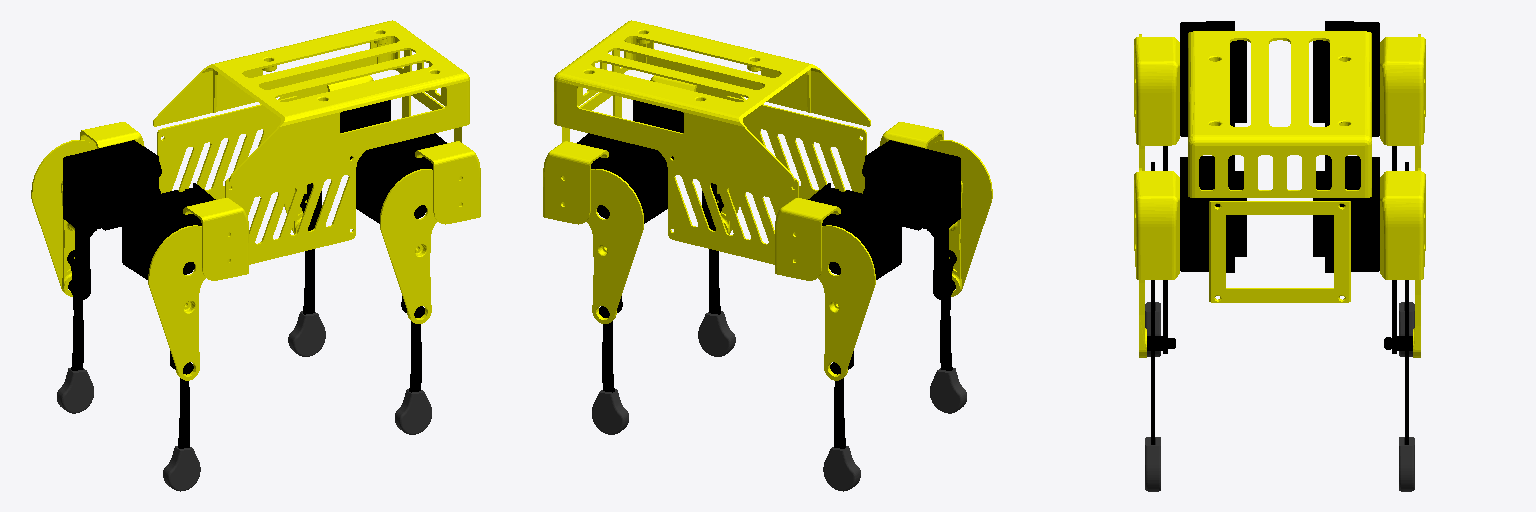
--- What the picture shows (computed from the rendered views, not written in the file) ---
3 views of the same robot in one strip: view 1: azimuth 30°, elevation 25°; view 2: azimuth 150°, elevation 25°; view 3: azimuth 270°, elevation 25° (orthographic).
Robot: mini_pupper_description — 27 links, 26 joints (12 revolute, 14 fixed); root link base_link; default pose: all joints at 0.
Links seen in each view (by area): view 1: yellow_plate_on_base_link, lb1, yellow_plate_on_rb2, yellow_plate_on_rf2, rb1, yellow_plate_on_lb2, yellow_plate_on_rf1, yellow_plate_on_rb1, rf1, lffoot, rbfoot, lbfoot (+9 smaller); view 2: yellow_plate_on_base_link, rb1, yellow_plate_on_lb2, yellow_plate_on_lf2, lb1, yellow_plate_on_rb2, yellow_plate_on_lf1, yellow_plate_on_lb1, lf1, rffoot, lbfoot, lffoot (+9 smaller); view 3: yellow_plate_on_base_link, yellow_plate_on_lb1, yellow_plate_on_rb1, yellow_plate_on_lf1, yellow_plate_on_rf1, lf1, rf1, lb1, rb1, lffoot, rffoot, lf2 (+5 smaller).
Link boxes in pixels (left/top/right/bottom): yellow_plate_on_base_link: left=153, top=20, right=469, bottom=264; lb1: left=63, top=140, right=161, bottom=236; yellow_plate_on_rb2: left=148, top=225, right=205, bottom=380; yellow_plate_on_rf2: left=380, top=169, right=437, bottom=323; rb1: left=122, top=183, right=215, bottom=279; yellow_plate_on_lb2: left=31, top=140, right=96, bottom=296; yellow_plate_on_rf1: left=415, top=141, right=480, bottom=224; yellow_plate_on_rb1: left=183, top=198, right=248, bottom=280; rf1: left=356, top=133, right=446, bottom=223; lffoot: left=288, top=311, right=325, bottom=356; rbfoot: left=163, top=446, right=200, bottom=491; lbfoot: left=57, top=368, right=93, bottom=413; yellow_plate_on_base_link: left=554, top=20, right=870, bottom=264; rb1: left=862, top=140, right=960, bottom=236; yellow_plate_on_lb2: left=818, top=225, right=875, bottom=380; yellow_plate_on_lf2: left=586, top=169, right=643, bottom=323; lb1: left=808, top=183, right=901, bottom=279; yellow_plate_on_rb2: left=928, top=140, right=992, bottom=296; yellow_plate_on_lf1: left=543, top=141, right=608, bottom=224; yellow_plate_on_lb1: left=775, top=198, right=840, bottom=280; lf1: left=577, top=133, right=667, bottom=223; rffoot: left=698, top=311, right=735, bottom=356; lbfoot: left=823, top=446, right=860, bottom=491; lffoot: left=592, top=389, right=628, bottom=434; yellow_plate_on_base_link: left=1188, top=31, right=1371, bottom=302; yellow_plate_on_lb1: left=1380, top=37, right=1425, bottom=145; yellow_plate_on_rb1: left=1134, top=37, right=1179, bottom=145; yellow_plate_on_lf1: left=1380, top=171, right=1425, bottom=279; yellow_plate_on_rf1: left=1134, top=171, right=1179, bottom=279; lf1: left=1313, top=155, right=1379, bottom=272; rf1: left=1180, top=155, right=1246, bottom=272; lb1: left=1313, top=21, right=1379, bottom=136; rb1: left=1180, top=21, right=1246, bottom=136; lffoot: left=1399, top=437, right=1414, bottom=491; rffoot: left=1145, top=437, right=1160, bottom=491; lf2: left=1384, top=280, right=1412, bottom=353.
Bounding box of the posed robot: 0.1787 × 0.1104 × 0.1643 m (x, y, z).
Meshes: 26 distinct files referenced, 25 mesh visuals loaded (25 binary STL); not drawn: 1 (reference not matched to a file when rendering).

robot.urdf — mini_pupper_description:
<?xml version="1.0" encoding="utf-8"?>
<!-- This URDF was automatically created by SolidWorks to URDF Exporter! Originally created by Stephen Brawner ([email redacted]) 
     Commit Version: 1.6.0-4-g7f85cfe  Build Version: 1.6.7995.38578
     For more information, please see http://wiki.ros.org/sw_urdf_exporter -->
<robot
  name="mini_pupper_description">
  <link
    name="base_link">
    <inertial>
      <origin
        xyz="0.00844951979878915 0.0001728047792493 0.00869729029701202"
        rpy="0 0 0" />
      <mass
        value="0.134691319118437" />
      <inertia
        ixx="3.40109121256321E-05"
        ixy="-6.78500268507971E-09"
        ixz="-1.81339539021684E-08"
        iyy="0.000147385581272769"
        iyz="-4.47734876658619E-09"
        izz="0.00016846348518794" />
    </inertial>
    <visual>
      <origin
        xyz="0 0 0"
        rpy="0 0 0" />
      <geometry>
        <mesh
          filename="package://mini_pupper_description/meshes/base_link.STL" />
      </geometry>
      <material
        name="">
        <color
          rgba="0 0 0 1" />
      </material>
    </visual>
    <collision>
      <origin
        xyz="0 0 0"
        rpy="0 0 0" />
      <geometry>
        <mesh
          filename="package://mini_pupper_description/meshes/base_link.STL" />
      </geometry>
    </collision>
  </link>
  <link
    name="lf1">
    <inertial>
      <origin
        xyz="0.00526736156972807 0.00236436968105114 0.00650122216444412"
        rpy="0 0 0" />
      <mass
        value="0.0196447444837726" />
      <inertia
        ixx="1.70191348786722E-06"
        ixy="-1.61450827134213E-08"
        ixz="1.86841463825918E-09"
        iyy="2.93899635039357E-06"
        iyz="1.13175026993529E-10"
        izz="2.93583383434522E-06" />
    </inertial>
    <visual>
      <origin
        xyz="0 0 0"
        rpy="0 0 0" />
      <geometry>
        <mesh
          filename="package://mini_pupper_description/meshes/lf1.STL" />
      </geometry>
      <material
        name="">
        <color
          rgba="0 0 0 1" />
      </material>
    </visual>
    <collision>
      <origin
        xyz="0 0 0"
        rpy="0 0 0" />
      <geometry>
        <mesh
          filename="package://mini_pupper_description/meshes/lf1.STL" />
      </geometry>
    </collision>
  </link>
  <joint
    name="base_lf1"
    type="revolute">
    <origin
      xyz="0.053366 0.0235 0"
      rpy="0 0 0" />
    <parent
      link="base_link" />
    <child
      link="lf1" />
    <axis
      xyz="1 0 0" />
    <limit
      lower="-3.14"
      upper="3.14"
      effort="1.5"
      velocity="1" />
  </joint>
  <link
    name="lf2">
    <inertial>
      <origin
        xyz="2.62781338356E-10 0.000129396570295121 -0.021524135719757"
        rpy="0 0 0" />
      <mass
        value="0.00254044741625709" />
      <inertia
        ixx="4.86984531425551E-07"
        ixy="3.95771316406597E-14"
        ixz="1.61669454230127E-14"
        iyy="4.95051213623408E-07"
        iyz="1.56619273587931E-10"
        izz="1.35590088469061E-08" />
    </inertial>
    <visual>
      <origin
        xyz="0 0 0"
        rpy="0 0 0" />
      <geometry>
        <mesh
          filename="package://mini_pupper_description/meshes/lf2.STL" />
      </geometry>
      <material
        name="">
        <color
          rgba="0 0 0 1" />
      </material>
    </visual>
    <collision>
      <origin
        xyz="0 0 0"
        rpy="0 0 0" />
      <geometry>
        <mesh
          filename="package://mini_pupper_description/meshes/lf2.STL" />
      </geometry>
    </collision>
  </link>
  <joint
    name="lf1_lf2"
    type="revolute">
    <origin
      xyz="0 0.0197 0"
      rpy="0 0 0" />
    <parent
      link="lf1" />
    <child
      link="lf2" />
    <axis
      xyz="0 1 0" />
    <limit
      lower="-3.14"
      upper="3.14"
      effort="1.5"
      velocity="1" />
  </joint>
  <link
    name="lf3">
    <inertial>
      <origin
        xyz="-0.000201064324813649 -6.51562137576889E-15 -0.0222388225397051"
        rpy="0 0 0" />
      <mass
        value="0.00116819880893665" />
      <inertia
        ixx="6.33284725556024E-07"
        ixy="-3.27757704155792E-24"
        ixz="-1.45034791129582E-09"
        iyy="6.36627597721464E-07"
        iyz="-1.58221004934781E-21"
        izz="3.78094678449664E-09" />
    </inertial>
    <visual>
      <origin
        xyz="0 0 0"
        rpy="0 0 0" />
      <geometry>
        <mesh
          filename="package://mini_pupper_description/meshes/lf3.STL" />
      </geometry>
      <material
        name="">
        <color
          rgba="0 0 0 1" />
      </material>
    </visual>
    <collision>
      <origin
        xyz="0 0 0"
        rpy="0 0 0" />
      <geometry>
        <mesh
          filename="package://mini_pupper_description/meshes/lf3.STL" />
      </geometry>
    </collision>
  </link>
  <joint
    name="lf2_lf3"
    type="revolute">
    <origin
      xyz="0 0.00475 -0.05"
      rpy="0 0 0" />
    <parent
      link="lf2" />
    <child
      link="lf3" />
    <axis
      xyz="0 1 0" />
    <limit
      lower="-3.14"
      upper="3.14"
      effort="1.5"
      velocity="1" />
  </joint>
  <link
    name="lffoot">
    <inertial>
      <origin
        xyz="0.000724371625935943 1.09108755988463E-08 0.00419791722389556"
        rpy="0 0 0" />
      <mass
        value="0.00132570300578448" />
      <inertia
        ixx="3.89580939103419E-08"
        ixy="9.04479035688991E-14"
        ixz="-3.06613187349632E-09"
        iyy="5.88627306909839E-08"
        iyz="4.5518653941102E-13"
        izz="2.87654631242429E-08" />
    </inertial>
    <visual>
      <origin
        xyz="0 0 0"
        rpy="0 0 0" />
      <geometry>
        <mesh
          filename="package://mini_pupper_description/meshes/lffoot.STL" />
      </geometry>
      <material
        name="">
        <color
          rgba="0.250980392156863 0.250980392156863 0.250980392156863 1" />
      </material>
    </visual>
    <collision>
      <origin
        xyz="0 0 0"
        rpy="0 0 0" />
      <geometry>
        <mesh
          filename="package://mini_pupper_description/meshes/lffoot.STL" />
      </geometry>
    </collision>
  </link>
  <joint
    name="lf3_lffoot"
    type="fixed">
    <origin
      xyz="-0.00130967444637319 0 -0.0559846831985773"
      rpy="0 0 0" />
    <parent
      link="lf3" />
    <child
      link="lffoot" />
    <axis
      xyz="0 0 0" />
  </joint>
  <link
    name="yellow_plate_on_lf2">
    <inertial>
      <origin
        xyz="-0.00265248008125325 0.00890383879831759 -0.0140200302414043"
        rpy="0 0 0" />
      <mass
        value="0.00210511078857199" />
      <inertia
        ixx="8.29595179259638E-07"
        ixy="3.32896270959394E-09"
        ixz="1.66467418841703E-08"
        iyy="9.35293997839278E-07"
        iyz="-1.2069153087721E-08"
        izz="1.15324789291027E-07" />
    </inertial>
    <visual>
      <origin
        xyz="0 0 0"
        rpy="0 0 0" />
      <geometry>
        <mesh
          filename="package://mini_pupper_description/meshes/yellow_plate_on_lf2.STL" />
      </geometry>
      <material
        name="">
        <color
          rgba="1 1 0 1" />
      </material>
    </visual>
    <collision>
      <origin
        xyz="0 0 0"
        rpy="0 0 0" />
      <geometry>
        <mesh
          filename="package://mini_pupper_description/meshes/yellow_plate_on_lf2.STL" />
      </geometry>
    </collision>
  </link>
  <joint
    name="lf2_yellow"
    type="fixed">
    <origin
      xyz="0 0 0"
      rpy="0 0 0" />
    <parent
      link="lf2" />
    <child
      link="yellow_plate_on_lf2" />
    <axis
      xyz="0 0 0" />
  </joint>
  <link
    name="yellow_plate_on_lf1">
    <inertial>
      <origin
        xyz="0.0216592574500536 0.0231680013822528 0.0102528884038901"
        rpy="0 0 0" />
      <mass
        value="0.00242814921749929" />
      <inertia
        ixx="3.6847810611601E-07"
        ixy="2.32364548215269E-08"
        ixz="5.1052036139619E-08"
        iyy="3.89086630478296E-07"
        iyz="3.63866639885936E-09"
        izz="2.32380635410159E-07" />
    </inertial>
    <visual>
      <origin
        xyz="0 0 0"
        rpy="0 0 0" />
      <geometry>
        <mesh
          filename="package://mini_pupper_description/meshes/yellow_plate_on_lf1.STL" />
      </geometry>
      <material
        name="">
        <color
          rgba="1 1 0 1" />
      </material>
    </visual>
    <collision>
      <origin
        xyz="0 0 0"
        rpy="0 0 0" />
      <geometry>
        <mesh
          filename="package://mini_pupper_description/meshes/yellow_plate_on_lf1.STL" />
      </geometry>
    </collision>
  </link>
  <joint
    name="lf1_yellow"
    type="fixed">
    <origin
      xyz="0 0 0"
      rpy="0 0 0" />
    <parent
      link="lf1" />
    <child
      link="yellow_plate_on_lf1" />
    <axis
      xyz="0 0 0" />
  </joint>
  <link
    name="lb1">
    <inertial>
      <origin
        xyz="0.00558374172693491 0.00236434177022784 0.00649877920491013"
        rpy="0 0 0" />
      <mass
        value="0.019644744523815" />
      <inertia
        ixx="1.70191349645343E-06"
        ixy="1.61436146808562E-08"
        ixz="1.86839857353886E-09"
        iyy="2.93899634293617E-06"
        iyz="-1.13367631090633E-10"
        izz="2.9358338335038E-06" />
    </inertial>
    <visual>
      <origin
        xyz="0 0 0"
        rpy="0 0 0" />
      <geometry>
        <mesh
          filename="package://mini_pupper_description/meshes/lb1.STL" />
      </geometry>
      <material
        name="">
        <color
          rgba="0 0 0 1" />
      </material>
    </visual>
    <collision>
      <origin
        xyz="0 0 0"
        rpy="0 0 0" />
      <geometry>
        <mesh
          filename="package://mini_pupper_description/meshes/lb1.STL" />
      </geometry>
    </collision>
  </link>
  <joint
    name="base_lb1"
    type="revolute">
    <origin
      xyz="-0.067166 0.0235 0"
      rpy="0 0 0" />
    <parent
      link="base_link" />
    <child
      link="lb1" />
    <axis
      xyz="1 0 0" />
    <limit
      lower="-3.14"
      upper="3.14"
      effort="1.5"
      velocity="3.14" />
  </joint>
  <link
    name="lb2">
    <inertial>
      <origin
        xyz="1.57435291886499E-09 0.000129396567167039 -0.0215241334319537"
        rpy="0 0 0" />
      <mass
        value="0.00254044741871927" />
      <inertia
        ixx="4.86984542438579E-07"
        ixy="4.41612418329956E-14"
        ixz="-6.47488565723849E-14"
        iyy="4.95051213624114E-07"
        iyz="1.56662602187533E-10"
        izz="1.35589978381784E-08" />
    </inertial>
    <visual>
      <origin
        xyz="0 0 0"
        rpy="0 0 0" />
      <geometry>
        <mesh
          filename="package://mini_pupper_description/meshes/lb2.STL" />
      </geometry>
      <material
        name="">
        <color
          rgba="0 0 0 1" />
      </material>
    </visual>
    <collision>
      <origin
        xyz="0 0 0"
        rpy="0 0 0" />
      <geometry>
        <mesh
          filename="package://mini_pupper_description/meshes/lb2.STL" />
      </geometry>
    </collision>
  </link>
  <joint
    name="lb1_lb2"
    type="revolute">
    <origin
      xyz="0 0.0197 0"
      rpy="0 0 0" />
    <parent
      link="lb1" />
    <child
      link="lb2" />
    <axis
      xyz="0 1 0" />
    <limit
      lower="-3.14"
      upper="3.14"
      effort="1.5"
      velocity="1" />
  </joint>
  <link
    name="lb3">
    <inertial>
      <origin
        xyz="-0.000201064324816938 -6.49480469405717E-15 -0.0222388225396892"
        rpy="0 0 0" />
      <mass
        value="0.00116819880893666" />
      <inertia
        ixx="6.33284725556024E-07"
        ixy="9.33678987002995E-24"
        ixz="-1.45034791129569E-09"
        iyy="6.36627597721464E-07"
        iyz="1.36731598856866E-21"
        izz="3.78094678449671E-09" />
    </inertial>
    <visual>
      <origin
        xyz="0 0 0"
        rpy="0 0 0" />
      <geometry>
        <mesh
          filename="package://mini_pupper_description/meshes/lb3.STL" />
      </geometry>
      <material
        name="">
        <color
          rgba="0 0 0 1" />
      </material>
    </visual>
    <collision>
      <origin
        xyz="0 0 0"
        rpy="0 0 0" />
      <geometry>
        <mesh
          filename="package://mini_pupper_description/meshes/lb3.STL" />
      </geometry>
    </collision>
  </link>
  <joint
    name="lb2_lb3"
    type="revolute">
    <origin
      xyz="0 0.00475 -0.05"
      rpy="0 0 0" />
    <parent
      link="lb2" />
    <child
      link="lb3" />
    <axis
      xyz="0 1 0" />
    <limit
      lower="-3.14"
      upper="3.14"
      effort="1.5"
      velocity="3.14" />
  </joint>
  <link
    name="lbfoot">
    <inertial>
      <origin
        xyz="0.000724371625926673 1.09108897125565E-08 0.00419791722389347"
        rpy="0 0 0" />
      <mass
        value="0.00132570300578448" />
      <inertia
        ixx="3.89580939103422E-08"
        ixy="9.04479036029396E-14"
        ixz="-3.06613187349642E-09"
        iyy="5.88627306909843E-08"
        iyz="4.55186539552737E-13"
        izz="2.8765463124243E-08" />
    </inertial>
    <visual>
      <origin
        xyz="0 0 0"
        rpy="0 0 0" />
      <geometry>
        <mesh
          filename="package://mini_pupper_description/meshes/lbfoot.STL" />
      </geometry>
      <material
        name="">
        <color
          rgba="0.250980392156863 0.250980392156863 0.250980392156863 1" />
      </material>
    </visual>
    <collision>
      <origin
        xyz="0 0 0"
        rpy="0 0 0" />
      <geometry>
        <mesh
          filename="package://mini_pupper_description/meshes/lbfoot.STL" />
      </geometry>
    </collision>
  </link>
  <joint
    name="lb3_lbfoot"
    type="fixed">
    <origin
      xyz="-0.00130967444637192 0 -0.0559846831985739"
      rpy="0 0 0" />
    <parent
      link="lb3" />
    <child
      link="lbfoot" />
    <axis
      xyz="0 0 0" />
  </joint>
  <link
    name="yellow_plate_on_lb2">
    <inertial>
      <origin
        xyz="-0.00265248008125052 0.00890383879831391 -0.0140200302414046"
        rpy="0 0 0" />
      <mass
        value="0.00210511078857198" />
      <inertia
        ixx="8.29595179259636E-07"
        ixy="3.32896270959399E-09"
        ixz="1.66467418841712E-08"
        iyy="9.35293997839276E-07"
        iyz="-1.20691530877154E-08"
        izz="1.15324789291027E-07" />
    </inertial>
    <visual>
      <origin
        xyz="0 0 0"
        rpy="0 0 0" />
      <geometry>
        <mesh
          filename="package://mini_pupper_description/meshes/yellow_plate_on_lb2.STL" />
      </geometry>
      <material
        name="">
        <color
          rgba="1 1 0 1" />
      </material>
    </visual>
    <collision>
      <origin
        xyz="0 0 0"
        rpy="0 0 0" />
      <geometry>
        <mesh
          filename="package://mini_pupper_description/meshes/yellow_plate_on_lb2.STL" />
      </geometry>
    </collision>
  </link>
  <joint
    name="lb2_yellow"
    type="fixed">
    <origin
      xyz="0 0 0"
      rpy="0 0 0" />
    <parent
      link="lb2" />
    <child
      link="yellow_plate_on_lb2" />
    <axis
      xyz="0 0 0" />
  </joint>
  <link
    name="yellow_plate_on_lb1">
    <inertial>
      <origin
        xyz="0.0216592574500488 0.0231680013822625 0.0102528884038907"
        rpy="0 0 0" />
      <mass
        value="0.00242814921749928" />
      <inertia
        ixx="3.68478106116009E-07"
        ixy="2.32364548215268E-08"
        ixz="5.10520361396198E-08"
        iyy="3.89086630478293E-07"
        iyz="3.63866639886069E-09"
        izz="2.32380635410156E-07" />
    </inertial>
    <visual>
      <origin
        xyz="0 0 0"
        rpy="0 0 0" />
      <geometry>
        <mesh
          filename="package://mini_pupper_description/meshes/yellow_plate_on_lb1.STL" />
      </geometry>
      <material
        name="">
        <color
          rgba="1 1 0 1" />
      </material>
    </visual>
    <collision>
      <origin
        xyz="0 0 0"
        rpy="0 0 0" />
      <geometry>
        <mesh
          filename="package://mini_pupper_description/meshes/yellow_plate_on_lb1.STL" />
      </geometry>
    </collision>
  </link>
  <joint
    name="lb1_yellow"
    type="fixed">
    <origin
      xyz="0 0 0"
      rpy="0 0 0" />
    <parent
      link="lb1" />
    <child
      link="yellow_plate_on_lb1" />
    <axis
      xyz="0 0 0" />
  </joint>
  <link
    name="rf1">
    <inertial>
      <origin
        xyz="0.00526731951461729 -0.00236406439501087 0.00649877916643716"
        rpy="0 0 0" />
      <mass
        value="0.0196447445013957" />
      <inertia
        ixx="1.70191351026066E-06"
        ixy="1.61440114103899E-08"
        ixz="-1.86839363574855E-09"
        iyy="2.93899633258409E-06"
        iyz="1.13335117639567E-10"
        izz="2.9358338299427E-06" />
    </inertial>
    <visual>
      <origin
        xyz="0 0 0"
        rpy="0 0 0" />
      <geometry>
        <mesh
          filename="package://mini_pupper_description/meshes/rf1.STL" />
      </geometry>
      <material
        name="">
        <color
          rgba="0 0 0 1" />
      </material>
    </visual>
    <collision>
      <origin
        xyz="0 0 0"
        rpy="0 0 0" />
      <geometry>
        <mesh
          filename="package://mini_pupper_description/meshes/rf1.STL" />
      </geometry>
    </collision>
  </link>
  <joint
    name="base_rf1"
    type="revolute">
    <origin
      xyz="0.053366 -0.0235 0"
      rpy="0 0 0" />
    <parent
      link="base_link" />
    <child
      link="rf1" />
    <axis
      xyz="1 0 0" />
    <limit
      lower="-3.14"
      upper="3.14"
      effort="1.5"
      velocity="3.14" />
  </joint>
  <link
    name="rf2">
    <inertial>
      <origin
        xyz="-5.13155340442495E-09 -0.000129396570291415 -0.0215241343003917"
        rpy="0 0 0" />
      <mass
        value="0.0025404474162571" />
      <inertia
        ixx="4.86984578469772E-07"
        ixy="1.66146322255152E-13"
        ixz="-1.14043335339726E-13"
        iyy="4.95051213623409E-07"
        iyz="-1.56743309992761E-10"
        izz="1.35589618026864E-08" />
    </inertial>
    <visual>
      <origin
        xyz="0 0 0"
        rpy="0 0 0" />
      <geometry>
        <mesh
          filename="package://mini_pupper_description/meshes/rf2.STL" />
      </geometry>
      <material
        name="">
        <color
          rgba="0 0 0 1" />
      </material>
    </visual>
    <collision>
      <origin
        xyz="0 0 0"
        rpy="0 0 0" />
      <geometry>
        <mesh
          filename="package://mini_pupper_description/meshes/rf2.STL" />
      </geometry>
    </collision>
  </link>
  <joint
    name="rf1_rf2"
    type="revolute">
    <origin
      xyz="0 -0.0197 0"
      rpy="0 0 0" />
    <parent
      link="rf1" />
    <child
      link="rf2" />
    <axis
      xyz="0 1 0" />
    <limit
      lower="-3.14"
      upper="3.14"
      effort="1.5"
      velocity="3.14" />
  </joint>
  <link
    name="rf3">
    <inertial>
      <origin
        xyz="-0.000201064325641806 8.22154844204448E-13 -0.0222388225403791"
        rpy="0 0 0" />
      <mass
        value="0.00116819880893666" />
      <inertia
        ixx="6.33284725556025E-07"
        ixy="-6.82352693609631E-24"
        ixz="-1.45034791129694E-09"
        iyy="6.36627597721465E-07"
        iyz="-1.39309478307152E-21"
        izz="3.78094678449662E-09" />
    </inertial>
    <visual>
      <origin
        xyz="0 0 0"
        rpy="0 0 0" />
      <geometry>
        <mesh
          filename="package://mini_pupper_description/meshes/rf3.STL" />
      </geometry>
      <material
        name="">
        <color
          rgba="0 0 0 1" />
      </material>
    </visual>
    <collision>
      <origin
        xyz="0 0 0"
        rpy="0 0 0" />
      <geometry>
        <mesh
          filename="package://mini_pupper_description/meshes/rf3.STL" />
      </geometry>
    </collision>
  </link>
  <joint
    name="rf2_rf3"
    type="revolute">
    <origin
      xyz="0 -0.00475 -0.05"
      rpy="0 0 0" />
    <parent
      link="rf2" />
    <child
      link="rf3" />
    <axis
      xyz="0 1 0" />
    <limit
      lower="-3.14"
      upper="3.14"
      effort="1.5"
      velocity="3.14" />
  </joint>
  <link
    name="rffoot">
    <inertial>
      <origin
        xyz="0.000724371625103026 1.09117075861032E-08 0.00419791722321988"
        rpy="0 0 0" />
      <mass
        value="0.00132570300578448" />
      <inertia
        ixx="3.89580939103422E-08"
        ixy="9.04479035913978E-14"
        ixz="-3.06613187349633E-09"
        iyy="5.88627306909842E-08"
        iyz="4.55186539429573E-13"
        izz="2.87654631242429E-08" />
    </inertial>
    <visual>
      <origin
        xyz="0 0 0"
        rpy="0 0 0" />
      <geometry>
        <mesh
          filename="package://mini_pupper_description/meshes/rffoot.STL" />
      </geometry>
      <material
        name="">
        <color
          rgba="0.250980392156863 0.250980392156863 0.250980392156863 1" />
      </material>
    </visual>
    <collision>
      <origin
        xyz="0 0 0"
        rpy="0 0 0" />
      <geometry>
        <mesh
          filename="package://mini_pupper_description/meshes/rffoot.STL" />
      </geometry>
    </collision>
  </link>
  <joint
    name="rf3_rffoot"
    type="fixed">
    <origin
      xyz="-0.00130967444637148 0 -0.0559846831985725"
      rpy="0 0 0" />
    <parent
      link="rf3" />
    <child
      link="rffoot" />
    <axis
      xyz="0 0 0" />
  </joint>
  <link
    name="yellow_plate_on_rf2">
    <inertial>
      <origin
        xyz="-0.0027169359836396 -0.00890680411140662 -0.0140099075849338"
        rpy="0 0 0" />
      <mass
        value="0.00207670184209877" />
      <inertia
        ixx="8.26633830741187E-07"
        ixy="-3.34686536826442E-09"
        ixz="1.77485522700157E-08"
        iyy="9.31012409215388E-07"
        iyz="1.19665996522467E-08"
        izz="1.13957978528195E-07" />
    </inertial>
    <visual>
      <origin
        xyz="0 0 0"
        rpy="0 0 0" />
      <geometry>
        <mesh
          filename="package://mini_pupper_description/meshes/yellow_plate_on_rf2.STL" />
      </geometry>
      <material
        name="">
        <color
          rgba="1 1 0 1" />
      </material>
    </visual>
    <collision>
      <origin
        xyz="0 0 0"
        rpy="0 0 0" />
      <geometry>
        <mesh
          filename="package://mini_pupper_description/meshes/yellow_plate_on_rf2.STL" />
      </geometry>
    </collision>
  </link>
  <joint
    name="rf2_yellow"
    type="fixed">
    <origin
      xyz="0 0 0"
      rpy="0 0 0" />
    <parent
      link="rf2" />
    <child
      link="yellow_plate_on_rf2" />
    <axis
      xyz="0 0 0" />
  </joint>
  <link
    name="yellow_plate_on_rf1">
    <inertial>
      <origin
        xyz="0.0216199667813383 -0.023105343330833 0.0102918096874735"
        rpy="0 0 0" />
      <mass
        value="0.00226063490254061" />
      <inertia
        ixx="3.43789232867078E-07"
        ixy="-2.2333358544701E-08"
        ixz="4.91381450428996E-08"
        iyy="3.66698588812991E-07"
        iyz="-3.14917760991235E-09"
        izz="2.20925481928142E-07" />
    </inertial>
    <visual>
      <origin
        xyz="0 0 0"
        rpy="0 0 0" />
      <geometry>
        <mesh
          filename="package://mini_pupper_description/meshes/yellow_plate_on_rf1.STL" />
      </geometry>
      <material
        name="">
        <color
          rgba="1 1 0 1" />
      </material>
    </visual>
    <collision>
      <origin
        xyz="0 0 0"
        rpy="0 0 0" />
      <geometry>
        <mesh
          filename="package://mini_pupper_description/meshes/yellow_plate_on_rf1.STL" />
      </geometry>
    </collision>
  </link>
  <joint
    name="rf1_yellow"
    type="fixed">
    <origin
      xyz="0 0 0"
      rpy="0 0 0" />
    <parent
      link="rf1" />
    <child
      link="yellow_plate_on_rf1" />
    <axis
      xyz="0 0 0" />
  </joint>
  <link
    name="rb1">
    <inertial>
      <origin
        xyz="0.00558373893847949 -0.00236406426200582 0.00650122033927278"
        rpy="0 0 0" />
      <mass
        value="0.0196447445102971" />
      <inertia
        ixx="1.70191349049773E-06"
        ixy="-1.61435403246551E-08"
        ixz="-1.86841308408532E-09"
        iyy="2.93899634365558E-06"
        iyz="-1.13398763164948E-10"
        izz="2.9358338387347E-06" />
    </inertial>
    <visual>
      <origin
        xyz="0 0 0"
        rpy="0 0 0" />
      <geometry>
        <mesh
          filename="package://mini_pupper_description/meshes/rb1.STL" />
      </geometry>
      <material
        name="">
        <color
          rgba="0 0 0 1" />
      </material>
    </visual>
    <collision>
      <origin
        xyz="0 0 0"
        rpy="0 0 0" />
      <geometry>
        <mesh
          filename="package://mini_pupper_description/meshes/rb1.STL" />
      </geometry>
    </collision>
  </link>
  <joint
    name="base_rb1"
    type="revolute">
    <origin
      xyz="-0.067166 -0.0235 0"
      rpy="0 0 0" />
    <parent
      link="base_link" />
    <child
      link="rb1" />
    <axis
      xyz="1 0 0" />
    <limit
      lower="-3.14"
      upper="3.14"
      effort="1.5"
      velocity="3.14" />
  </joint>
  <link
    name="rb2">
    <inertial>
      <origin
        xyz="-9.23826736637379E-09 -0.000129396576257566 -0.021524133123383"
        rpy="0 0 0" />
      <mass
        value="0.00254044741155896" />
      <inertia
        ixx="4.86984606296421E-07"
        ixy="1.52983115739364E-13"
        ixz="-1.14720901044241E-13"
        iyy="4.95051213621931E-07"
        iyz="-1.56750222962027E-10"
        izz="1.35589339689325E-08" />
    </inertial>
    <visual>
      <origin
        xyz="0 0 0"
        rpy="0 0 0" />
      <geometry>
        <mesh
          filename="package://mini_pupper_description/meshes/rb2.STL" />
      </geometry>
      <material
        name="">
        <color
          rgba="0 0 0 1" />
      </material>
    </visual>
    <collision>
      <origin
        xyz="0 0 0"
        rpy="0 0 0" />
      <geometry>
        <mesh
          filename="package://mini_pupper_description/meshes/rb2.STL" />
      </geometry>
    </collision>
  </link>
  <joint
    name="rb1_rb2"
    type="revolute">
    <origin
      xyz="0 -0.0197 0"
      rpy="0 0 0" />
    <parent
      link="rb1" />
    <child
      link="rb2" />
    <axis
      xyz="0 1 0" />
    <limit
      lower="-3.14"
      upper="3.14"
      effort="1.5"
      velocity="1" />
  </joint>
  <link
    name="rb3">
    <inertial>
      <origin
        xyz="-0.000201064324811935 3.80945275324507E-15 -0.0222388225397031"
        rpy="0 0 0" />
      <mass
        value="0.00116819880893666" />
      <inertia
        ixx="6.33284725556026E-07"
        ixy="1.44858623889548E-23"
        ixz="-1.450347911297E-09"
        iyy="6.36627597721467E-07"
        iyz="2.18372992878949E-21"
        izz="3.78094678449668E-09" />
    </inertial>
    <visual>
      <origin
        xyz="0 0 0"
        rpy="0 0 0" />
      <geometry>
        <mesh
          filename="package://mini_pupper_description/meshes/rb3.STL" />
      </geometry>
      <material
        name="">
        <color
          rgba="0 0 0 1" />
      </material>
    </visual>
    <collision>
      <origin
        xyz="0 0 0"
        rpy="0 0 0" />
      <geometry>
        <mesh
          filename="package://mini_pupper_description/meshes/rb3.STL" />
      </geometry>
    </collision>
  </link>
  <joint
    name="rb2_rb3"
    type="revolute">
    <origin
      xyz="0 -0.00475 -0.05"
      rpy="0 0 0" />
    <parent
      link="rb2" />
    <child
      link="rb3" />
    <axis
      xyz="0 1 0" />
    <limit
      lower="-3.14"
      upper="3.14"
      effort="1.5"
      velocity="1" />
  </joint>
  <link
    name="rbfoot">
    <inertial>
      <origin
        xyz="0.000724371625929081 1.09108922591306E-08 0.00419791722388925"
        rpy="0 0 0" />
      <mass
        value="0.00132570300578449" />
      <inertia
        ixx="3.89580939103422E-08"
        ixy="9.04479036372306E-14"
        ixz="-3.06613187349639E-09"
        iyy="5.88627306909843E-08"
        iyz="4.55186539575579E-13"
        izz="2.8765463124243E-08" />
    </inertial>
    <visual>
      <origin
        xyz="0 0 0"
        rpy="0 0 0" />
      <geometry>
        <mesh
          filename="package://mini_pupper_description/meshes/rbfoot.STL" />
      </geometry>
      <material
        name="">
        <color
          rgba="0.250980392156863 0.250980392156863 0.250980392156863 1" />
      </material>
    </visual>
    <collision>
      <origin
        xyz="0 0 0"
        rpy="0 0 0" />
      <geometry>
        <mesh
          filename="package://mini_pupper_description/meshes/rbfoot.STL" />
      </geometry>
    </collision>
  </link>
  <joint
    name="rb3_rbfoot"
    type="fixed">
    <origin
      xyz="-0.00130967444637103 0 -0.0559846831985731"
      rpy="0 0 0" />
    <parent
      link="rb3" />
    <child
      link="rbfoot" />
    <axis
      xyz="0 0 0" />
  </joint>
  <link
    name="yellow_plate_on_rb2">
    <inertial>
      <origin
        xyz="-0.00271693598359808 -0.00890680411143284 -0.0140099075848797"
        rpy="0 0 0" />
      <mass
        value="0.00207670184209876" />
      <inertia
        ixx="8.26633830741187E-07"
        ixy="-3.34686536826437E-09"
        ixz="1.77485522700159E-08"
        iyy="9.31012409215388E-07"
        iyz="1.19665996522514E-08"
        izz="1.13957978528195E-07" />
    </inertial>
    <visual>
      <origin
        xyz="0 0 0"
        rpy="0 0 0" />
      <geometry>
        <mesh
          filename="package://mini_pupper_description/meshes/yellow_plate_on_rb2.STL" />
      </geometry>
      <material
        name="">
        <color
          rgba="1 1 0 1" />
      </material>
    </visual>
    <collision>
      <origin
        xyz="0 0 0"
        rpy="0 0 0" />
      <geometry>
        <mesh
          filename="package://mini_pupper_description/meshes/yellow_plate_on_rb2.STL" />
      </geometry>
    </collision>
  </link>
  <joint
    name="rb2_yellow"
    type="fixed">
    <origin
      xyz="0 0 0"
      rpy="0 0 0" />
    <parent
      link="rb2" />
    <child
      link="yellow_plate_on_rb2" />
    <axis
      xyz="0 0 0" />
  </joint>
  <link
    name="yellow_plate_on_rb1">
    <inertial>
      <origin
        xyz="0.0216199667813042 -0.0231053433308222 0.0102918096874708"
        rpy="0 0 0" />
      <mass
        value="0.0022606349025406" />
      <inertia
        ixx="3.43789232867076E-07"
        ixy="-2.23333585447009E-08"
        ixz="4.91381450428995E-08"
        iyy="3.66698588812988E-07"
        iyz="-3.14917760991196E-09"
        izz="2.20925481928139E-07" />
    </inertial>
    <visual>
      <origin
        xyz="0 0 0"
        rpy="0 0 0" />
      <geometry>
        <mesh
          filename="package://mini_pupper_description/meshes/yellow_plate_on_rb1.STL" />
      </geometry>
      <material
        name="">
        <color
          rgba="1 1 0 1" />
      </material>
    </visual>
    <collision>
      <origin
        xyz="0 0 0"
        rpy="0 0 0" />
      <geometry>
        <mesh
          filename="package://mini_pupper_description/meshes/yellow_plate_on_rb1.STL" />
      </geometry>
    </collision>
  </link>
  <joint
    name="rb1_yellow"
    type="fixed">
    <origin
      xyz="0 0 0"
      rpy="0 0 0" />
    <parent
      link="rb1" />
    <child
      link="yellow_plate_on_rb1" />
    <axis
      xyz="0 0 0" />
  </joint>
  <link
    name="yellow_plate_on_base_link">
    <inertial>
      <origin
        xyz="0.0317328189728428 -1.78539991383022E-07 0.0314773570780722"
        rpy="0 0 0" />
      <mass
        value="0.0167413040868161" />
      <inertia
        ixx="1.06832192017265E-05"
        ixy="4.53159245509394E-11"
        ixz="-2.20820711067993E-07"
        iyy="1.7836602944087E-05"
        iyz="4.65037409427748E-11"
        izz="2.45450168504452E-05" />
    </inertial>
    <visual>
      <origin
        xyz="0 0 0"
        rpy="0 0 0" />
      <geometry>
        <mesh
          filename="package://mini_pupper_description/meshes/yellow_plate_on_base_link.STL" />
      </geometry>
      <material
        name="">
        <color
          rgba="1 1 0 1" />
      </material>
    </visual>
    <collision>
      <origin
        xyz="0 0 0"
        rpy="0 0 0" />
      <geometry>
        <mesh
          filename="package://mini_pupper_description/meshes/yellow_plate_on_base_link.STL" />
      </geometry>
    </collision>
  </link>
  <joint
    name="base_link_yellow"
    type="fixed">
    <origin
      xyz="0 0 0"
      rpy="0 0 0" />
    <parent
      link="base_link" />
    <child
      link="yellow_plate_on_base_link" />
    <axis
      xyz="0 0 0" />
  </joint>
  
  
  
  
  
  <transmission name="base_lf1_trans">
    <type>transmission_interface/SimpleTransmission</type>
    <joint name="base_lf1">
      <hardwareInterface>hardware_interface/EffortJointInterface</hardwareInterface>
    </joint>
    <actuator name="base_lf1_motor">
      <hardwareInterface>hardware_interface/EffortJointInterface</hardwareInterface>
      <mechanicalReduction>1</mechanicalReduction>
    </actuator>
  </transmission>
  <transmission name="lf1_lf2_trans">
    <type>transmission_interface/SimpleTransmission</type>
    <joint name="lf1_lf2">
      <hardwareInterface>hardware_interface/EffortJointInterface</hardwareInterface>
    </joint>
    <actuator name="lf1_lf2_motor">
      <hardwareInterface>hardware_interface/EffortJointInterface</hardwareInterface>
      <mechanicalReduction>1</mechanicalReduction>
    </actuator>
  </transmission>
  <transmission name="lf2_lf3_trans">
    <type>transmission_interface/SimpleTransmission</type>
    <joint name="lf2_lf3">
      <hardwareInterface>hardware_interface/EffortJointInterface</hardwareInterface>
    </joint>
    <actuator name="lf2_lf3_motor">
      <hardwareInterface>hardware_interface/EffortJointInterface</hardwareInterface>
      <mechanicalReduction>1</mechanicalReduction>
    </actuator>
  </transmission>
  <transmission name="base_rf1_trans">
    <type>transmission_interface/SimpleTransmission</type>
    <joint name="base_rf1">
      <hardwareInterface>hardware_interface/EffortJointInterface</hardwareInterface>
    </joint>
    <actuator name="base_rf1_motor">
      <hardwareInterface>hardware_interface/EffortJointInterface</hardwareInterface>
      <mechanicalReduction>1</mechanicalReduction>
    </actuator>
  </transmission>
  <transmission name="rf1_rf2_trans">
    <type>transmission_interface/SimpleTransmission</type>
    <joint name="rf1_rf2">
      <hardwareInterface>hardware_interface/EffortJointInterface</hardwareInterface>
    </joint>
    <actuator name="rf1_rf2_motor">
      <hardwareInterface>hardware_interface/EffortJointInterface</hardwareInterface>
      <mechanicalReduction>1</mechanicalReduction>
    </actuator>
  </transmission>
  <transmission name="rf2_rf3_trans">
    <type>transmission_interface/SimpleTransmission</type>
    <joint name="rf2_rf3">
      <hardwareInterface>hardware_interface/EffortJointInterface</hardwareInterface>
    </joint>
    <actuator name="rf2_rf3_motor">
      <hardwareInterface>hardware_interface/EffortJointInterface</hardwareInterface>
      <mechanicalReduction>1</mechanicalReduction>
    </actuator>
  </transmission>
  <transmission name="base_lb1_trans">
    <type>transmission_interface/SimpleTransmission</type>
    <joint name="base_lb1">
      <hardwareInterface>hardware_interface/EffortJointInterface</hardwareInterface>
    </joint>
    <actuator name="base_lb1_motor">
      <hardwareInterface>hardware_interface/EffortJointInterface</hardwareInterface>
      <mechanicalReduction>1</mechanicalReduction>
    </actuator>
  </transmission>
  <transmission name="lb1_lb2_trans">
    <type>transmission_interface/SimpleTransmission</type>
    <joint name="lb1_lb2">
      <hardwareInterface>hardware_interface/EffortJointInterface</hardwareInterface>
    </joint>
    <actuator name="lb1_lb2_motor">
      <hardwareInterface>hardware_interface/EffortJointInterface</hardwareInterface>
      <mechanicalReduction>1</mechanicalReduction>
    </actuator>
  </transmission>
  <transmission name="lb2_lb3_trans">
    <type>transmission_interface/SimpleTransmission</type>
    <joint name="lb2_lb3">
      <hardwareInterface>hardware_interface/EffortJointInterface</hardwareInterface>
    </joint>
    <actuator name="lb2_lb3_motor">
      <hardwareInterface>hardware_interface/EffortJointInterface</hardwareInterface>
      <mechanicalReduction>1</mechanicalReduction>
    </actuator>
  </transmission>
  <transmission name="base_rb1_trans">
    <type>transmission_interface/SimpleTransmission</type>
    <joint name="base_rb1">
      <hardwareInterface>hardware_interface/EffortJointInterface</hardwareInterface>
    </joint>
    <actuator name="base_rb1_motor">
      <hardwareInterface>hardware_interface/EffortJointInterface</hardwareInterface>
      <mechanicalReduction>1</mechanicalReduction>
    </actuator>
  </transmission>
  <transmission name="rb1_rb2_trans">
    <type>transmission_interface/SimpleTransmission</type>
    <joint name="rb1_rb2">
      <hardwareInterface>hardware_interface/EffortJointInterface</hardwareInterface>
    </joint>
    <actuator name="rb1_rb2_motor">
      <hardwareInterface>hardware_interface/EffortJointInterface</hardwareInterface>
      <mechanicalReduction>1</mechanicalReduction>
    </actuator>
  </transmission>
  <transmission name="rb2_rb3_trans">
    <type>transmission_interface/SimpleTransmission</type>
    <joint name="rb2_rb3">
      <hardwareInterface>hardware_interface/EffortJointInterface</hardwareInterface>
    </joint>
    <actuator name="rb2_rb3_motor">
      <hardwareInterface>hardware_interface/EffortJointInterface</hardwareInterface>
      <mechanicalReduction>1</mechanicalReduction>
    </actuator>
  </transmission>
  <!-- coloring Gazebo model -->
  <gazebo reference="base_link">
    <material>Gazebo/FlatBlack</material>
  </gazebo>
  <gazebo reference="yellow_plate_on_base_link">
    <material>Gazebo/Yellow</material>
  </gazebo>
  <gazebo reference="lf1">
    <kp>1000000.0</kp>
    <kd>1.0</kd>
    <mu1>0.8</mu1>
    <mu2>0.8</mu2>
    <maxVel>0.0</maxVel>
    <minDepth>0.001</minDepth>
    <material>Gazebo/FlatBlack</material>
  </gazebo>
  <gazebo reference="yellow_plate_on_lf1">
    <material>Gazebo/Yellow</material>
  </gazebo>
  <gazebo reference="lf2">
    <kp>1000000.0</kp>
    <kd>1.0</kd>
    <mu1>0.8</mu1>
    <mu2>0.8</mu2>
    <maxVel>0.0</maxVel>
    <minDepth>0.001</minDepth>
    <material>Gazebo/FlatBlack</material>
  </gazebo>
  <gazebo reference="yellow_plate_on_lf2">
    <material>Gazebo/Yellow</material>
  </gazebo>
  <gazebo reference="lf3">
    <kp>1000000.0</kp>
    <kd>1.0</kd>
    <mu1>0.8</mu1>
    <mu2>0.8</mu2>
    <maxVel>0.0</maxVel>
    <minDepth>0.001</minDepth>
    <material>Gazebo/FlatBlack</material>
  </gazebo>
  <gazebo reference="lffoot">
    <kp>1000000.0</kp>
    <kd>1.0</kd>
    <mu1>0.8</mu1>
    <mu2>0.8</mu2>
    <maxVel>0.0</maxVel>
    <minDepth>0.001</minDepth>
    <material>Gazebo/FlatBlack</material>
  </gazebo>
  <gazebo reference="rf1">
    <kp>1000000.0</kp>
    <kd>1.0</kd>
    <mu1>0.8</mu1>
    <mu2>0.8</mu2>
    <maxVel>0.0</maxVel>
    <minDepth>0.001</minDepth>
    <material>Gazebo/FlatBlack</material>
  </gazebo>
  <gazebo reference="yellow_plate_on_rf1">
    <material>Gazebo/Yellow</material>
  </gazebo>
  <gazebo reference="rf2">
    <kp>1000000.0</kp>
    <kd>1.0</kd>
    <mu1>0.8</mu1>
    <mu2>0.8</mu2>
    <maxVel>0.0</maxVel>
    <minDepth>0.001</minDepth>
    <material>Gazebo/FlatBlack</material>
  </gazebo>
  <gazebo reference="yellow_plate_on_rf2">
    <material>Gazebo/Yellow</material>
  </gazebo>
  <gazebo reference="rf3">
    <kp>1000000.0</kp>
    <kd>1.0</kd>
    <mu1>0.8</mu1>
    <mu2>0.8</mu2>
    <maxVel>0.0</maxVel>
    <minDepth>0.001</minDepth>
    <material>Gazebo/FlatBlack</material>
  </gazebo>
  <gazebo reference="rffoot">
    <kp>1000000.0</kp>
    <kd>1.0</kd>
    <mu1>0.8</mu1>
    <mu2>0.8</mu2>
    <maxVel>0.0</maxVel>
    <minDepth>0.001</minDepth>
    <material>Gazebo/FlatBlack</material>
  </gazebo>
  <gazebo reference="lb1">
    <kp>1000000.0</kp>
    <kd>1.0</kd>
    <mu1>0.8</mu1>
    <mu2>0.8</mu2>
    <maxVel>0.0</maxVel>
    <minDepth>0.001</minDepth>
    <material>Gazebo/FlatBlack</material>
  </gazebo>
  <gazebo reference="yellow_plate_on_lb1">
    <material>Gazebo/Yellow</material>
  </gazebo>
  <gazebo reference="lb2">
    <kp>1000000.0</kp>
    <kd>1.0</kd>
    <mu1>0.8</mu1>
    <mu2>0.8</mu2>
    <maxVel>0.0</maxVel>
    <minDepth>0.001</minDepth>
    <material>Gazebo/FlatBlack</material>
  </gazebo>
  <gazebo reference="yellow_plate_on_lb2">
    <material>Gazebo/Yellow</material>
  </gazebo>
  <gazebo reference="lb3">
    <kp>1000000.0</kp>
    <kd>1.0</kd>
    <mu1>0.8</mu1>
    <mu2>0.8</mu2>
    <maxVel>0.0</maxVel>
    <minDepth>0.001</minDepth>
    <material>Gazebo/FlatBlack</material>
  </gazebo>
  <gazebo reference="lbfoot">
    <kp>1000000.0</kp>
    <kd>1.0</kd>
    <mu1>0.8</mu1>
    <mu2>0.8</mu2>
    <maxVel>0.0</maxVel>
    <minDepth>0.001</minDepth>
    <material>Gazebo/FlatBlack</material>
  </gazebo>
  <gazebo reference="rb1">
    <kp>1000000.0</kp>
    <kd>1.0</kd>
    <mu1>0.8</mu1>
    <mu2>0.8</mu2>
    <maxVel>0.0</maxVel>
    <minDepth>0.001</minDepth>
    <material>Gazebo/FlatBlack</material>
  </gazebo>
  <gazebo reference="yellow_plate_on_rb1">
    <material>Gazebo/Yellow</material>
  </gazebo>
  <gazebo reference="rb2">
    <kp>1000000.0</kp>
    <kd>1.0</kd>
    <mu1>0.8</mu1>
    <mu2>0.8</mu2>
    <maxVel>0.0</maxVel>
    <minDepth>0.001</minDepth>
    <material>Gazebo/FlatBlack</material>
  </gazebo>
  <gazebo reference="yellow_plate_on_rb2">
    <material>Gazebo/Yellow</material>
  </gazebo>
  <gazebo reference="rb3">
    <kp>1000000.0</kp>
    <kd>1.0</kd>
    <mu1>0.8</mu1>
    <mu2>0.8</mu2>
    <maxVel>0.0</maxVel>
    <minDepth>0.001</minDepth>
    <material>Gazebo/FlatBlack</material>
  </gazebo>
  <gazebo reference="rbfoot">
    <kp>1000000.0</kp>
    <kd>1.0</kd>
    <mu1>0.8</mu1>
    <mu2>0.8</mu2>
    <maxVel>0.0</maxVel>
    <minDepth>0.001</minDepth>
    <material>Gazebo/FlatBlack</material>
  </gazebo>
  <gazebo>
    <plugin filename="libgazebo_ros_p3d.so" name="p3d_base_controller">
      <alwaysOn>true</alwaysOn>
      <updateRate>10.0</updateRate>
      <bodyName>base_link</bodyName>
      <topicName>odom/ground_truth</topicName>
      <gaussianNoise>0.01</gaussianNoise>
      <frameName>world</frameName>
      <xyzOffsets>0 0 0</xyzOffsets>
      <rpyOffsets>0 0 0</rpyOffsets>
    </plugin>
  </gazebo>
  <gazebo>
    <plugin filename="libgazebo_ros_control.so" name="gazebo_ros_control">
      <legacyModeNS>true</legacyModeNS>
    </plugin>
  </gazebo>
  <gazebo>
    <plugin filename="libhector_gazebo_ros_imu.so" name="imu_controller">
      <updateRate>50.0</updateRate>
      <bodyName>imu_link</bodyName>
      <topicName>imu/data</topicName>
      <accelDrift>0.005 0.005 0.005</accelDrift>
      <accelGaussianNoise>0.005 0.005 0.005</accelGaussianNoise>
      <rateDrift>0.005 0.005 0.005 </rateDrift>
      <rateGaussianNoise>0.005 0.005 0.005 </rateGaussianNoise>
      <headingDrift>0.005</headingDrift>
      <headingGaussianNoise>0.005</headingGaussianNoise>
    </plugin>
  </gazebo>
  <link name="imu_link">
    <inertial>
      <mass value="0.001"/>
      <origin rpy="0 0 0" xyz="0 0 0"/>
      <inertia ixx="1e-09" ixy="0.0" ixz="0.0" iyy="1e-09" iyz="0.0" izz="1e-09"/>
    </inertial>
  </link>
  <joint name="imu_joint" type="fixed">
    <parent link="base_link"/>
    <child link="imu_link"/>
  </joint>
</robot>
